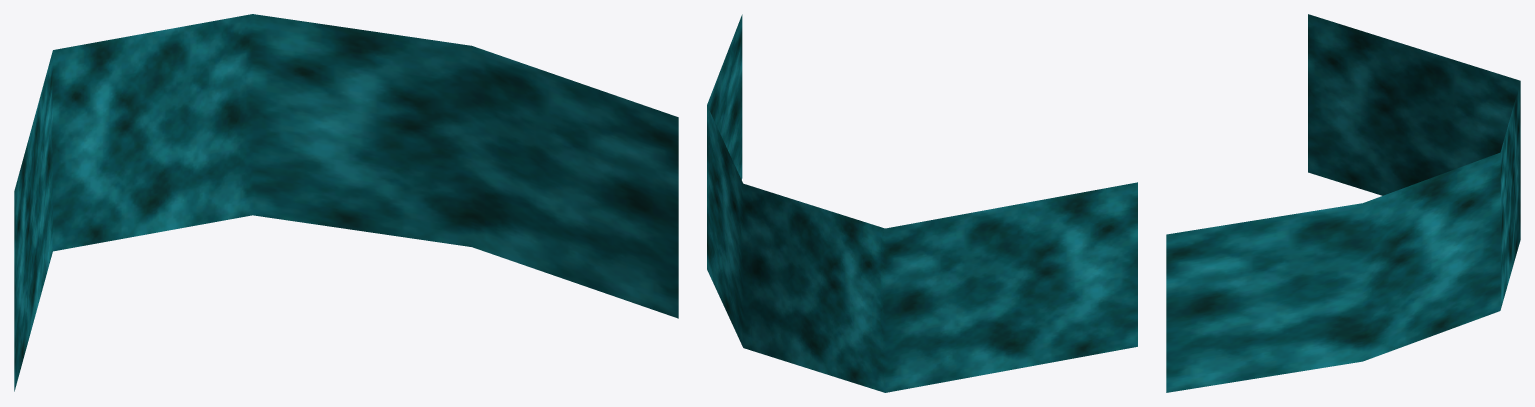
The model's file is MIRKWOOD_FOG01.fbx.
3 renders of one model, left to right at view 1: azimuth 30°, elevation 25°; view 2: azimuth 150°, elevation 25°; view 3: azimuth 270°, elevation 25°, orthographic. The views are drawn at different scales.
Visible parts, largest first — view 1: MIRKWOOD_FOG01; view 2: MIRKWOOD_FOG01; view 3: MIRKWOOD_FOG01.
Boxes of the visible parts, x1,y1,x2,y2 form: MIRKWOOD_FOG01: (14, 14, 678, 391); MIRKWOOD_FOG01: (707, 14, 1137, 392); MIRKWOOD_FOG01: (1166, 14, 1520, 392).
Bounding box in the file's own units: 247536 × 82905 × 168186.
1 material, 1 textured.
